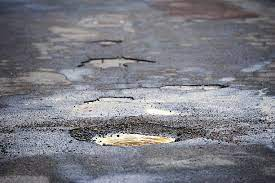potholes: (71, 118, 204, 150)
